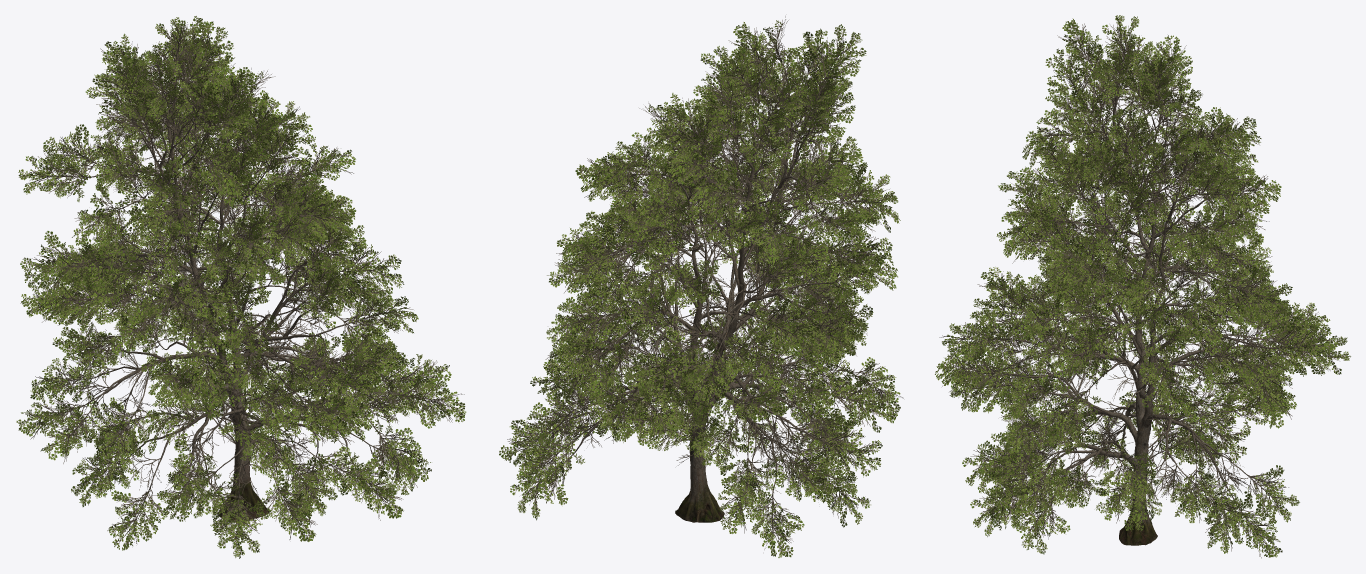
Rendered from SM_BlackAlder_Field_01_PP_LOD2.gltf.
The picture shows the model from 3 angles, left to right: view 1: azimuth 30°, elevation 25°; view 2: azimuth 150°, elevation 25°; view 3: azimuth 270°, elevation 25°; orthographic projection. The views are drawn at different scales.
Parts seen in each view (by area): view 1: SM_BlackAlder_Field_01_PP; view 2: SM_BlackAlder_Field_01_PP; view 3: SM_BlackAlder_Field_01_PP.
Part boxes in pixels (<box>): SM_BlackAlder_Field_01_PP: <box>16,16,466,558</box>; SM_BlackAlder_Field_01_PP: <box>499,16,903,557</box>; SM_BlackAlder_Field_01_PP: <box>935,15,1350,558</box>.
Bounding box in the file's own units: 11.94 × 16.06 × 12.62.
4 materials, 4 textured.
